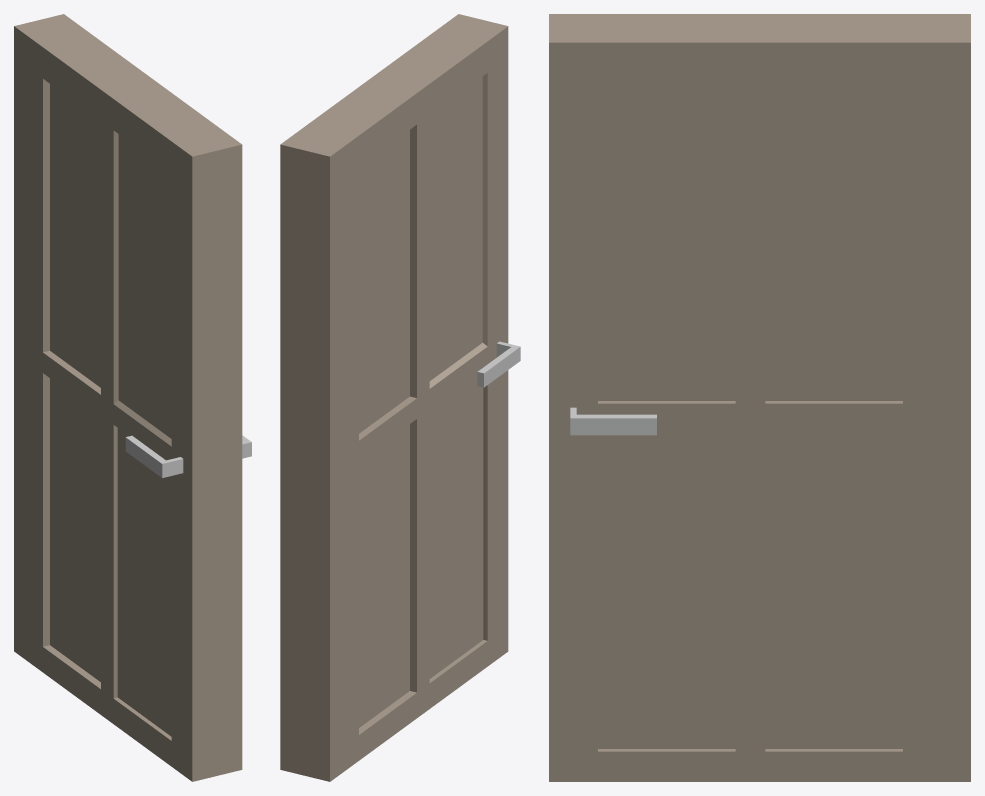
Rendered from Door.fbx.
3 views of the same model, side by side, from view 1: azimuth 30°, elevation 25°; view 2: azimuth 150°, elevation 25°; view 3: azimuth 270°, elevation 25° (orthographic). The views are drawn at different scales.
Parts seen in each view (by area): view 1: UpperDrawer.005; view 2: UpperDrawer.005; view 3: UpperDrawer.005.
Boxes of the visible parts, bbox=[...] form: UpperDrawer.005: bbox=[14, 14, 251, 781]; UpperDrawer.005: bbox=[280, 14, 520, 781]; UpperDrawer.005: bbox=[549, 14, 970, 781].
Bounding box in the file's own units: 88.98 × 593 × 307.
